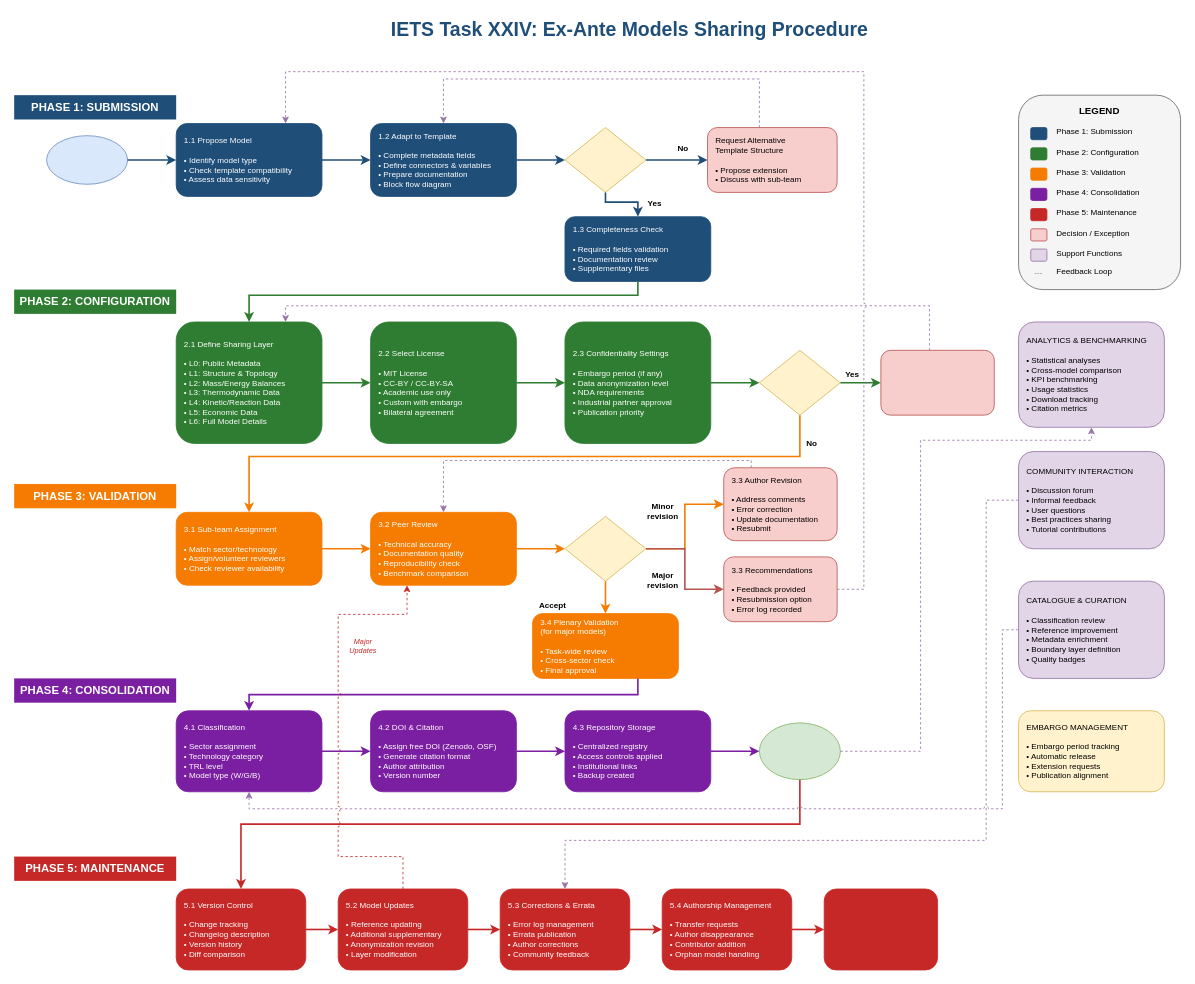
The diagram is 1195 pixels wide and 984 high, and some of its shapes have lost their labels. The centre of each missing label's shape, as x and y in pixels:
"5.5 Withdrawal • Model retraction • Archive version • Notification to users" goes at [880,929].
"COI Resolution • Declare conflicts • Adjust sharing layer • Negotiate terms" goes at [937,382].
"Conflict of Interest?" goes at [799,382].
"Model Contributor" goes at [87,159].
"Model Published" goes at [799,751].
"Review Outcome?" goes at [605,548].
"Template Compatible?" goes at [605,159].
